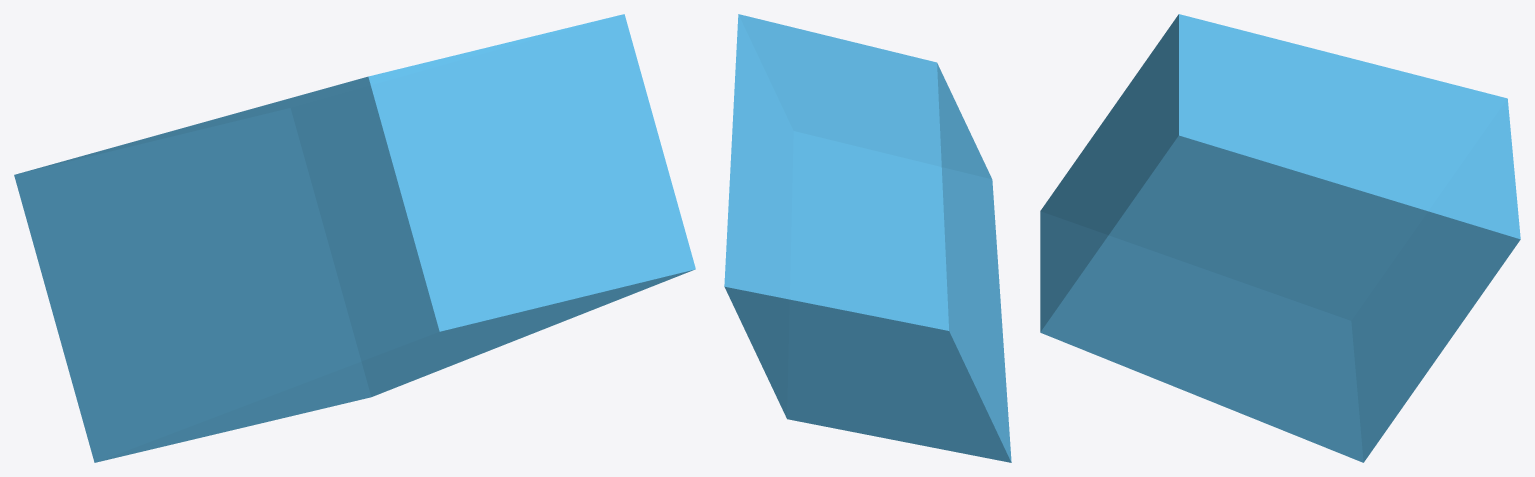
The model's file is Event_420094457_HBrechit_9.fbx.
3 views of the same model, side by side, from view 1: azimuth 30°, elevation 25°; view 2: azimuth 150°, elevation 25°; view 3: azimuth 270°, elevation 25° (orthographic). The views are drawn at different scales.
Visible parts, largest first — view 1: Model; view 2: Model; view 3: Model.
Boxes of the visible parts, <box> form: Model: <box>14,14,695,462</box>; Model: <box>724,14,1011,462</box>; Model: <box>1040,14,1520,462</box>.
Size of the model in its own units: 0.7704 by 0.6913 by 0.7482.
